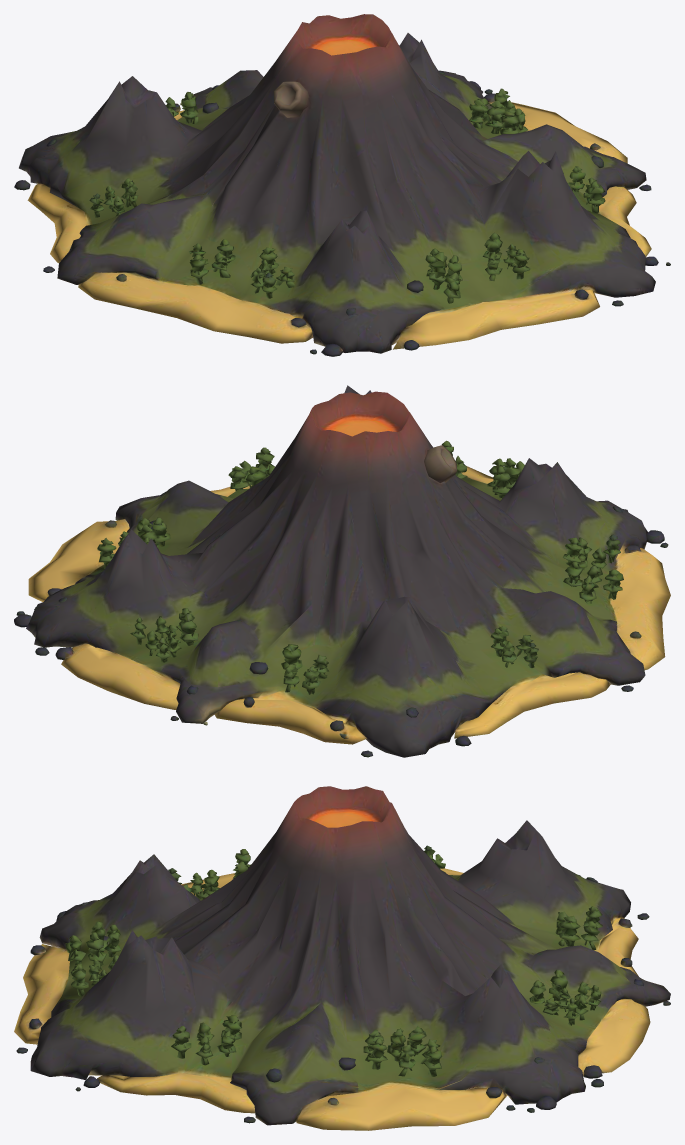
File: volcano.glb
The picture shows the model from 3 angles, top to bottom: view 1: azimuth 30°, elevation 25°; view 2: azimuth 150°, elevation 25°; view 3: azimuth 270°, elevation 25°; orthographic projection. The views are drawn at different scales.
Visible parts, largest first — view 1: tripo_node_bdb335e5-a1ac-45af-a55a-5f7e6e539d71; view 2: tripo_node_bdb335e5-a1ac-45af-a55a-5f7e6e539d71; view 3: tripo_node_bdb335e5-a1ac-45af-a55a-5f7e6e539d71.
Boxes of the visible parts, x1=… form: tripo_node_bdb335e5-a1ac-45af-a55a-5f7e6e539d71: x1=14, y1=14, x2=670, y2=356; tripo_node_bdb335e5-a1ac-45af-a55a-5f7e6e539d71: x1=14, y1=385, x2=670, y2=757; tripo_node_bdb335e5-a1ac-45af-a55a-5f7e6e539d71: x1=14, y1=786, x2=670, y2=1130.
Bounding box in the file's own units: 260 × 83.83 × 260.
Materials: 1 (1 with a texture image).
